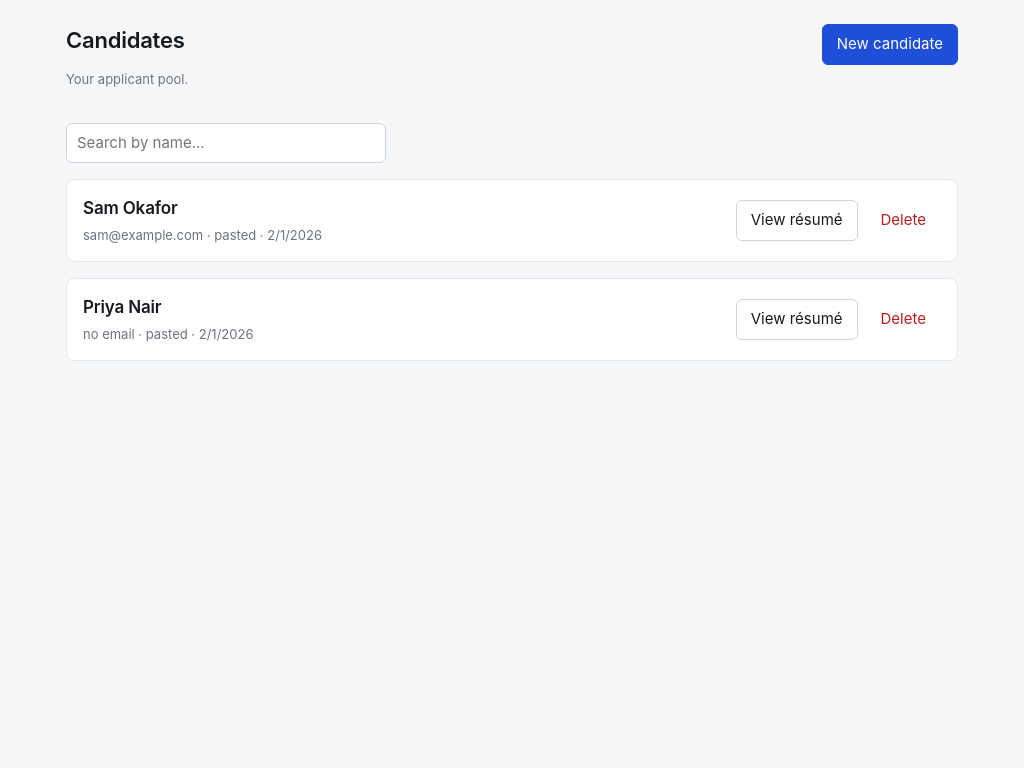
the add form is hidden until "New candidate" is clicked, and closes after adding
Expected: the heading "Priya Nair" is shown, [83, 297, 161, 317]
Expected: the field labelled "Candidate name" is not shown
Click the button "New candidate".
click(890, 44)  # box [822, 24, 958, 64]
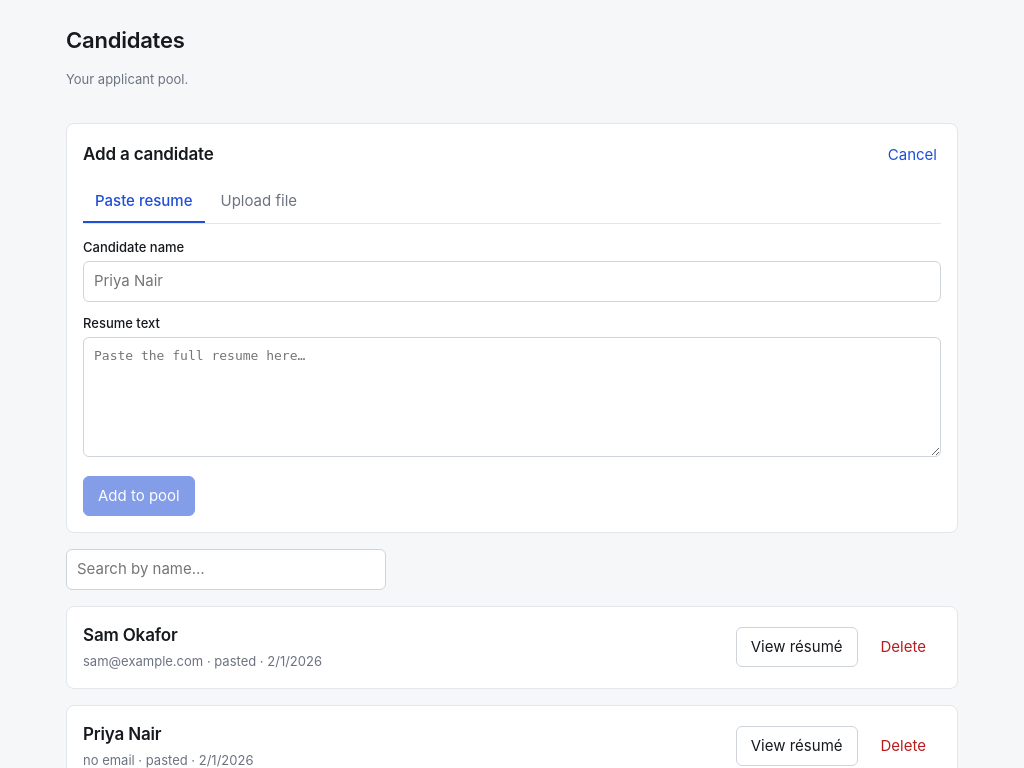
Expected: the field labelled "Candidate name" is shown
Expected: the button "New candidate" is gone
Type "New Person" into the field labelled "Candidate name".
click(512, 281); type("New Person")  # box [83, 261, 941, 302]
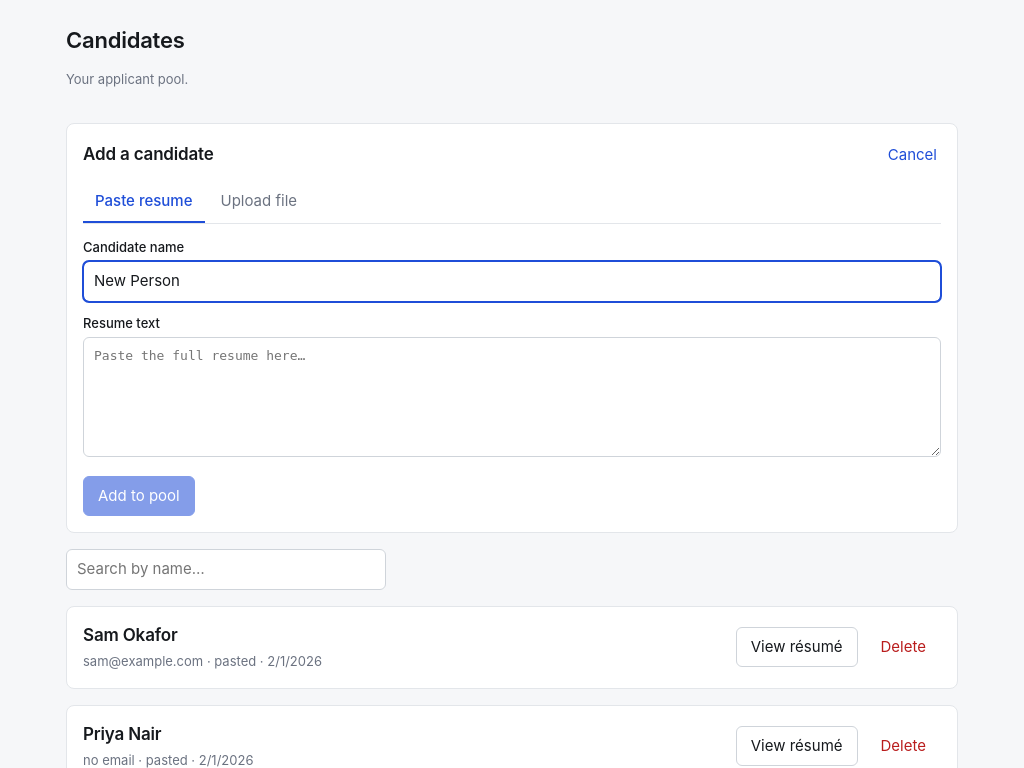
Type "React and TypeScript" into the text box labelled "Resume text".
click(512, 397); type("React and TypeScript")  # box [83, 337, 941, 457]
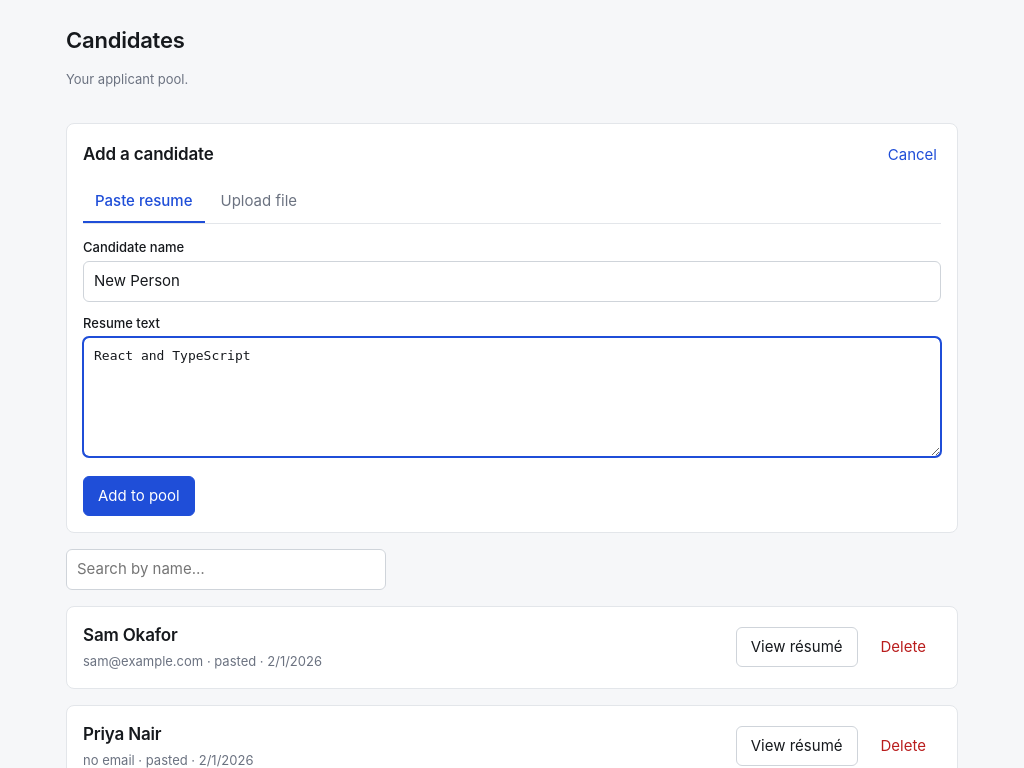
Click the button "Add to pool".
click(139, 496)  # box [83, 476, 195, 516]
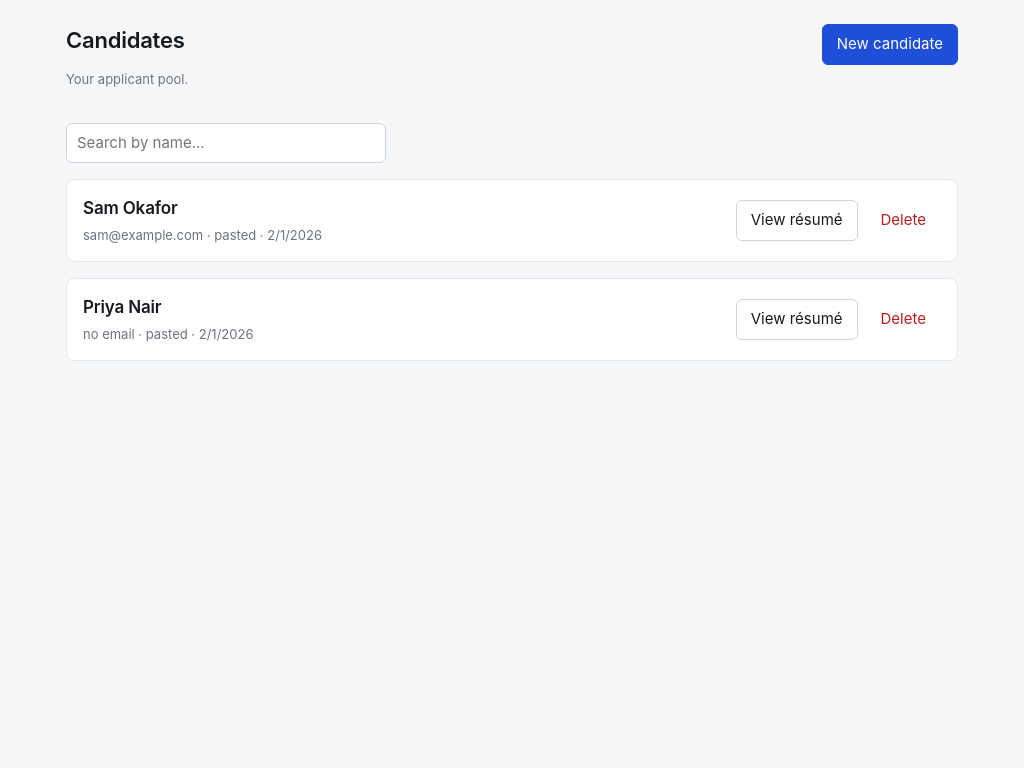
Expected: the button "New candidate" is shown, [822, 24, 958, 64]
Expected: the label labelled "Candidate name" is gone
